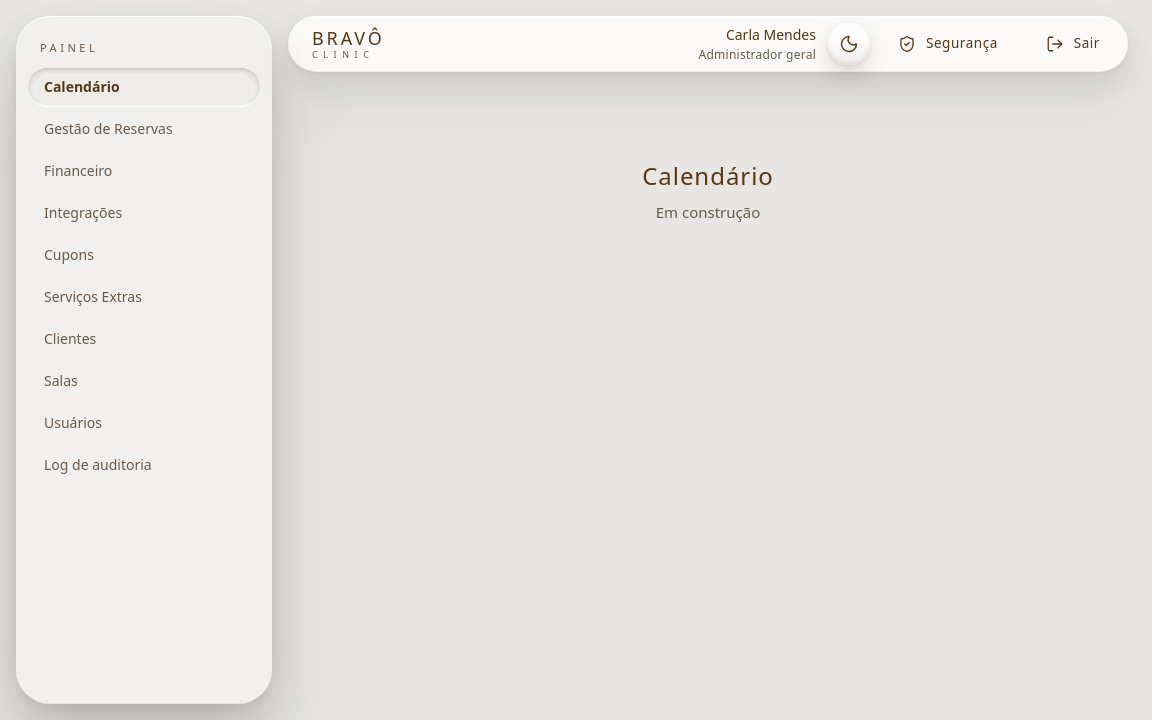
Scenario: AdminShell navigation › opens the placeholder page of a section: heading "Cupons" and "Em construção"
expect the text "Carla Mendes" is shown: met, box [726,24,816,46]
Click the link "Cupons" at (69, 254), box [44,245,94,264]
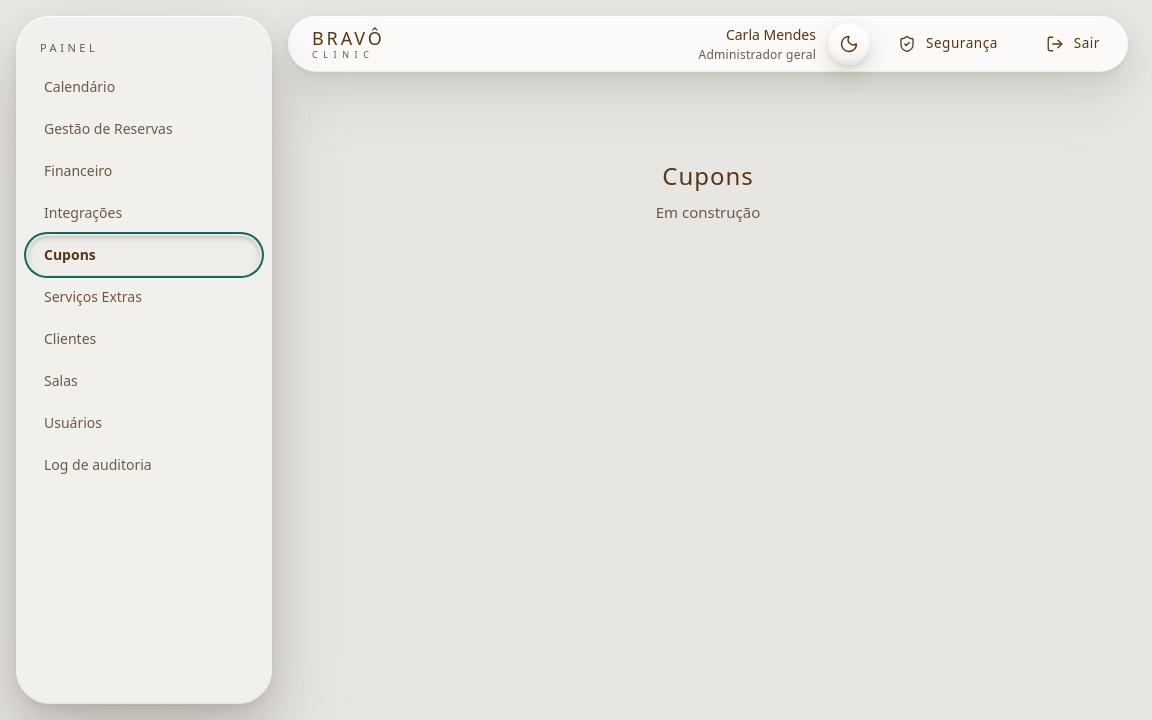
expect the text "Em construção" is shown: met, box [656,200,760,224]
expect the heading "Cupons" is shown: met, box [662,160,754,192]
